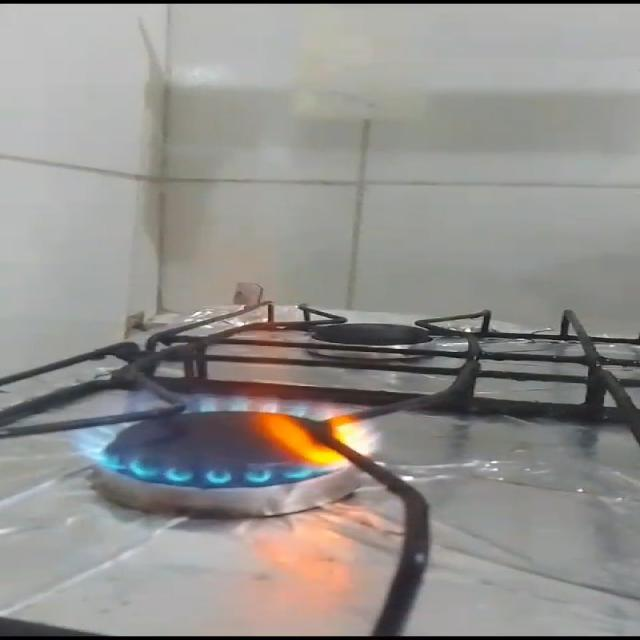fogo-ypXI: (62, 241, 382, 489)
